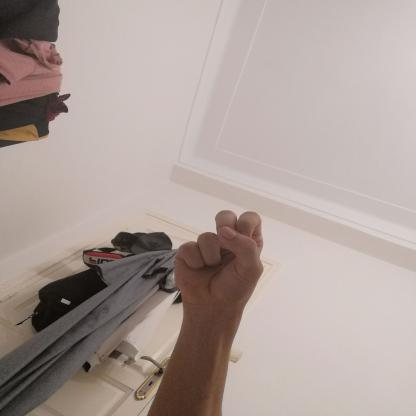QAAF: (164, 202, 278, 322)
